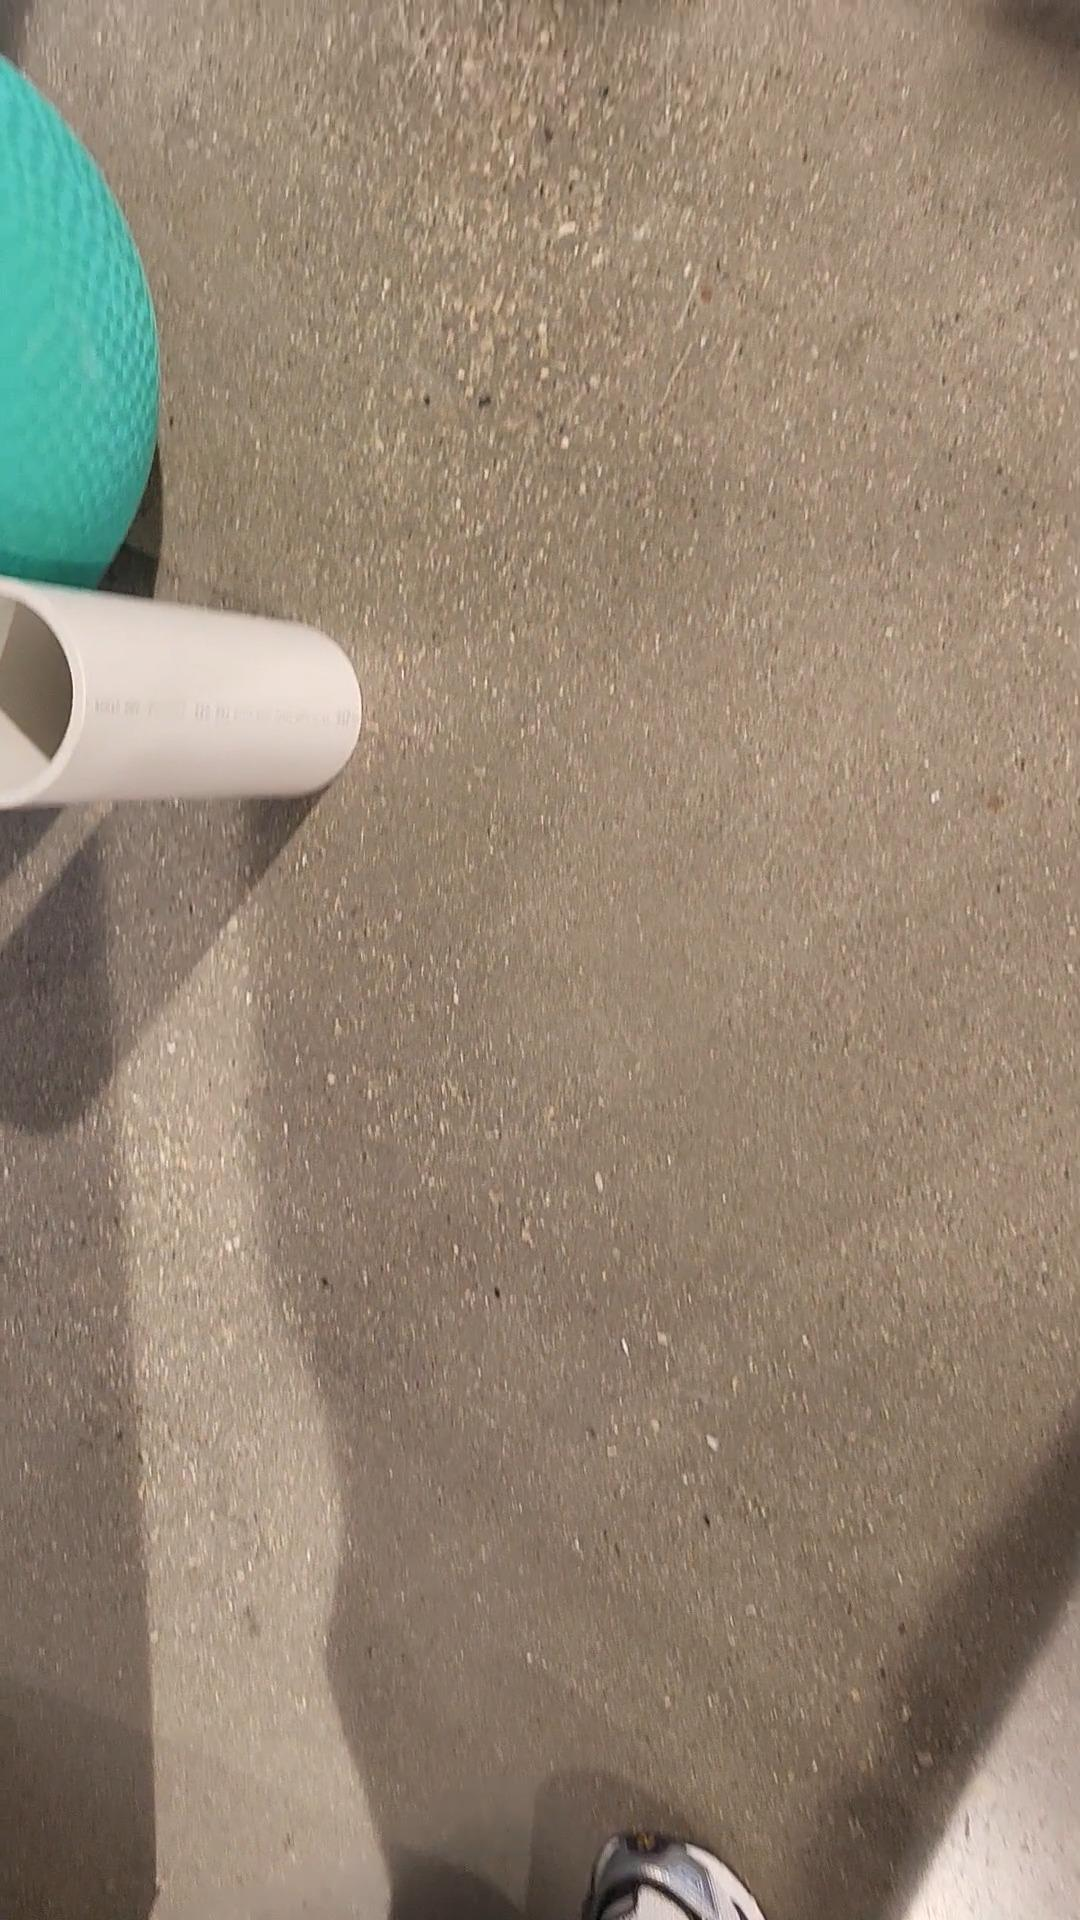algae: (0, 50, 165, 592)
coral: (0, 578, 363, 804)
